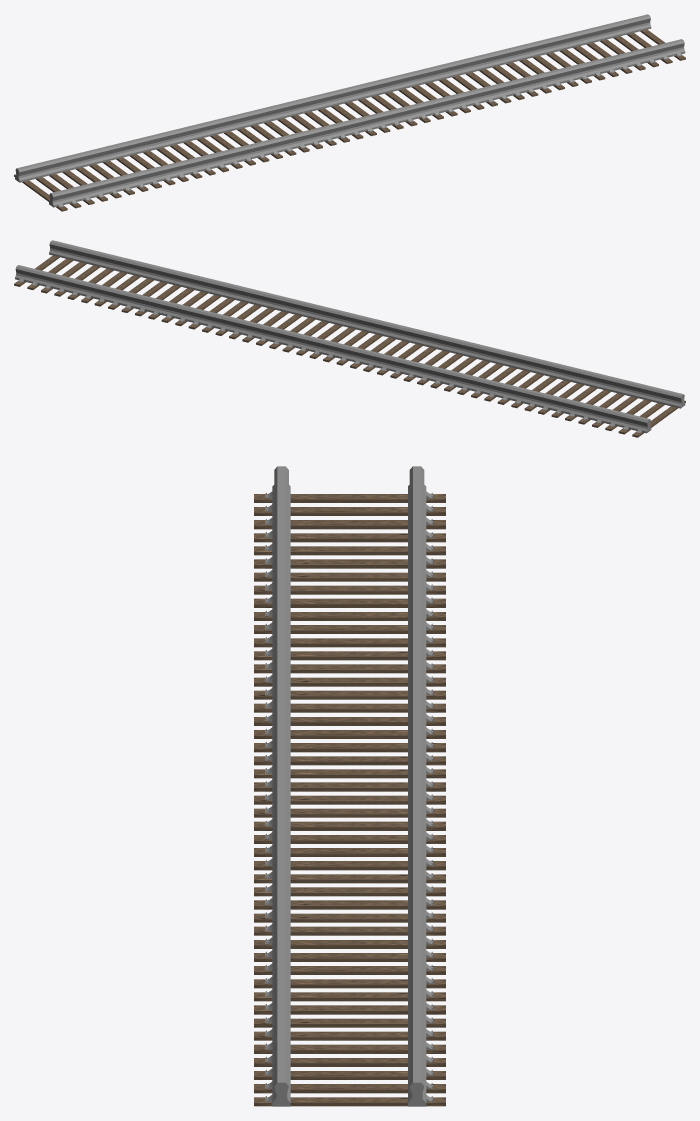
The model's file is Rail.fbx.
The picture shows the model from 3 angles, top to bottom: view 1: azimuth 30°, elevation 25°; view 2: azimuth 150°, elevation 25°; view 3: azimuth 270°, elevation 25°; orthographic projection. The views are drawn at different scales.
Visible parts, largest first — view 1: NailsHals.003; view 2: NailsHals.003; view 3: NailsHals.003.
Part boxes in pixels (bbox=[...]): NailsHals.003: bbox=[14, 14, 685, 211]; NailsHals.003: bbox=[14, 240, 685, 437]; NailsHals.003: bbox=[254, 466, 445, 1106].
Bounding box in the file's own units: 3667 × 75.81 × 484.
2 materials, 1 textured.
